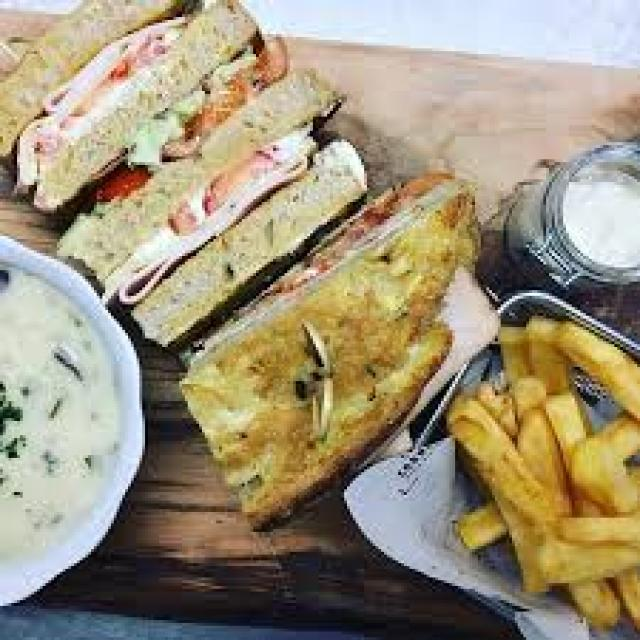French Fries: (444, 304, 637, 620)
Sandwich: (2, 0, 464, 441)
